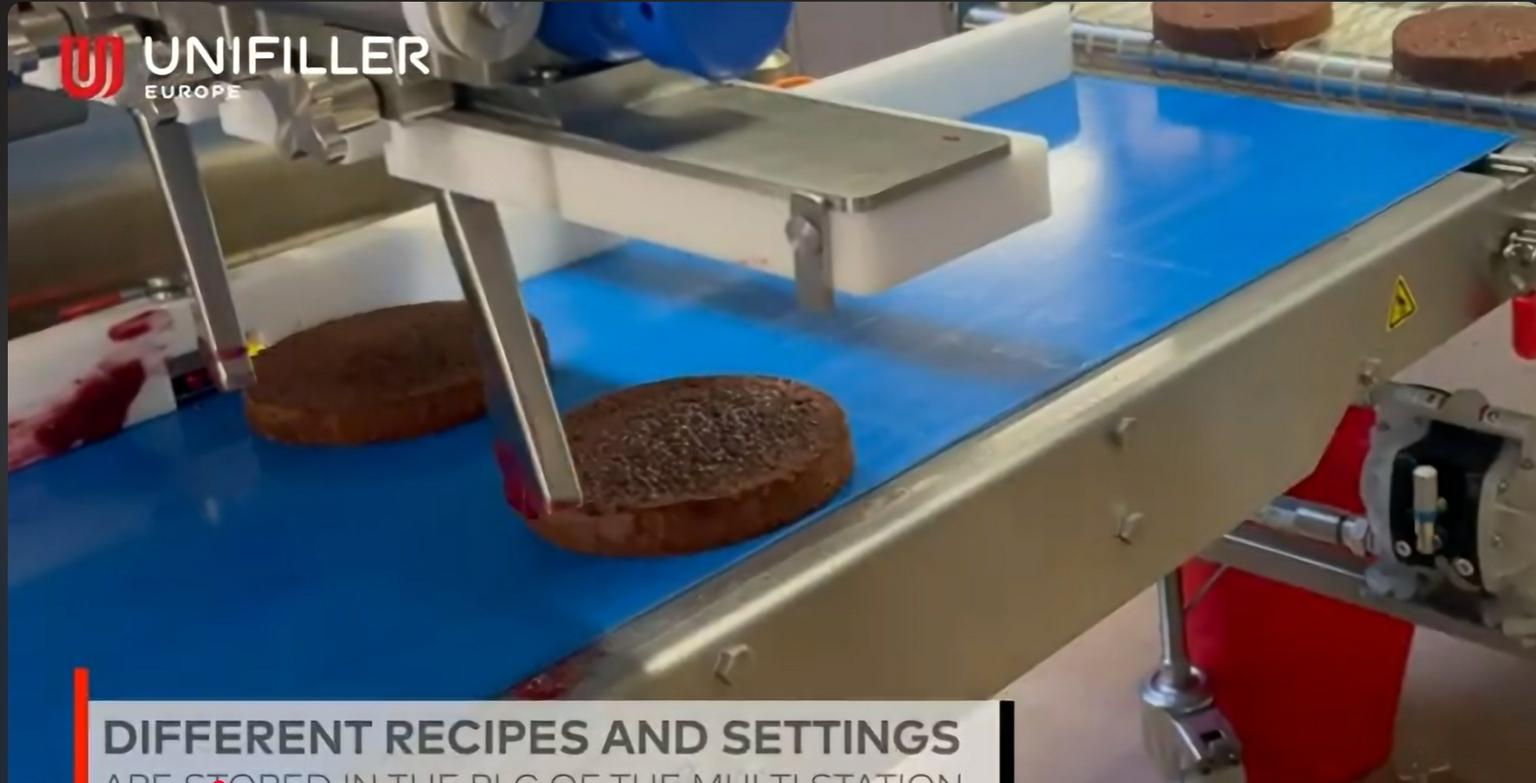Chocolate Cake: (512, 371, 857, 555), (230, 303, 546, 440), (1392, 0, 1536, 92), (1148, 4, 1342, 54)
